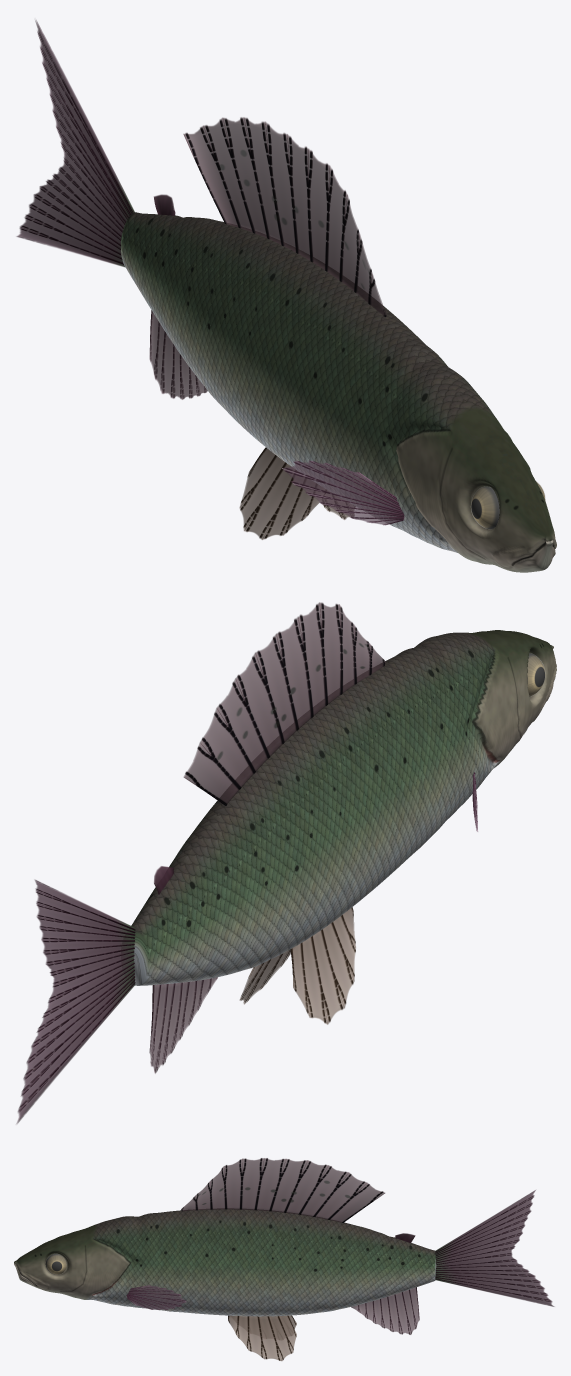
File: lipien.glb
The picture shows the model from 3 angles, top to bottom: view 1: azimuth 30°, elevation 25°; view 2: azimuth 150°, elevation 25°; view 3: azimuth 270°, elevation 25°; orthographic projection. The views are drawn at different scales.
Parts seen in each view (by area): view 1: Body, FinDorsal1, FinCaudal, FinPelvic, FinPectoral, FinAnal, EyeLeft, CorneaLeft; view 2: Body, FinDorsal1, FinCaudal, FinPelvic, FinAnal; view 3: Body, FinDorsal1, FinCaudal, FinPelvic, FinAnal, FinPectoral, EyeRight, CorneaRight.
Part boxes in pixels (box(x1,y1,x2,y2)): Body: box(121, 212, 556, 572); FinDorsal1: box(183, 117, 386, 316); FinCaudal: box(16, 20, 134, 267); FinPelvic: box(239, 447, 355, 539); FinPectoral: box(282, 460, 404, 525); FinAnal: box(149, 310, 207, 399); EyeLeft: box(471, 486, 499, 528); CorneaLeft: box(471, 486, 499, 528); Body: box(131, 630, 556, 985); FinDorsal1: box(183, 602, 385, 805); FinCaudal: box(16, 879, 135, 1123); FinPelvic: box(239, 907, 355, 1024); FinAnal: box(149, 977, 217, 1073); Body: box(14, 1209, 436, 1316); FinDorsal1: box(181, 1158, 384, 1222); FinCaudal: box(435, 1190, 554, 1306); FinPelvic: box(228, 1315, 296, 1361); FinAnal: box(351, 1287, 419, 1334); FinPectoral: box(126, 1285, 186, 1309); EyeRight: box(45, 1253, 66, 1274); CorneaRight: box(46, 1254, 66, 1274).
Size of the model in its own units: 0.2128 by 0.3992 by 1.01.
9 materials, 8 textured.
